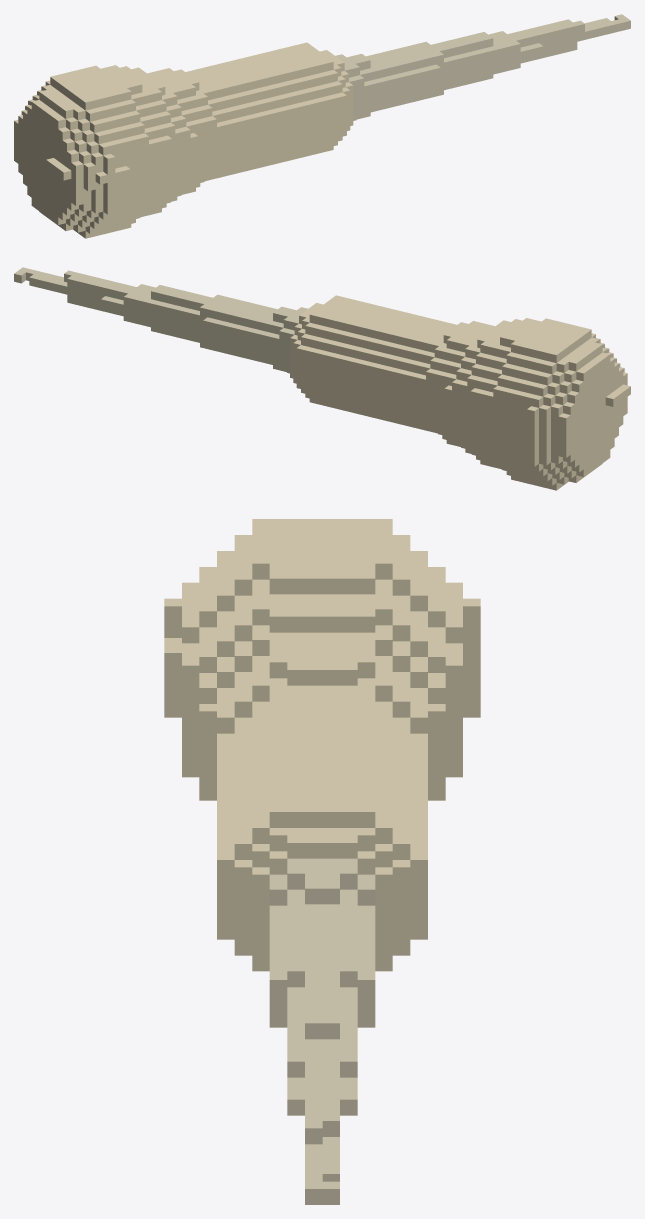
The model's file is awl_bone.glb.
The picture shows the model from 3 angles, top to bottom: view 1: azimuth 30°, elevation 25°; view 2: azimuth 150°, elevation 25°; view 3: azimuth 270°, elevation 25°; orthographic projection. The views are drawn at different scales.
Visible parts, largest first — view 1: awl_bone:compound; view 2: awl_bone:compound; view 3: awl_bone:compound.
Boxes of the visible parts, x1,y1,x2,y2 form: awl_bone:compound: (14,14,630,238); awl_bone:compound: (14,267,630,490); awl_bone:compound: (164,519,480,1204).
Bounding box in the file's own units: 0.154 × 0.034 × 0.036.
